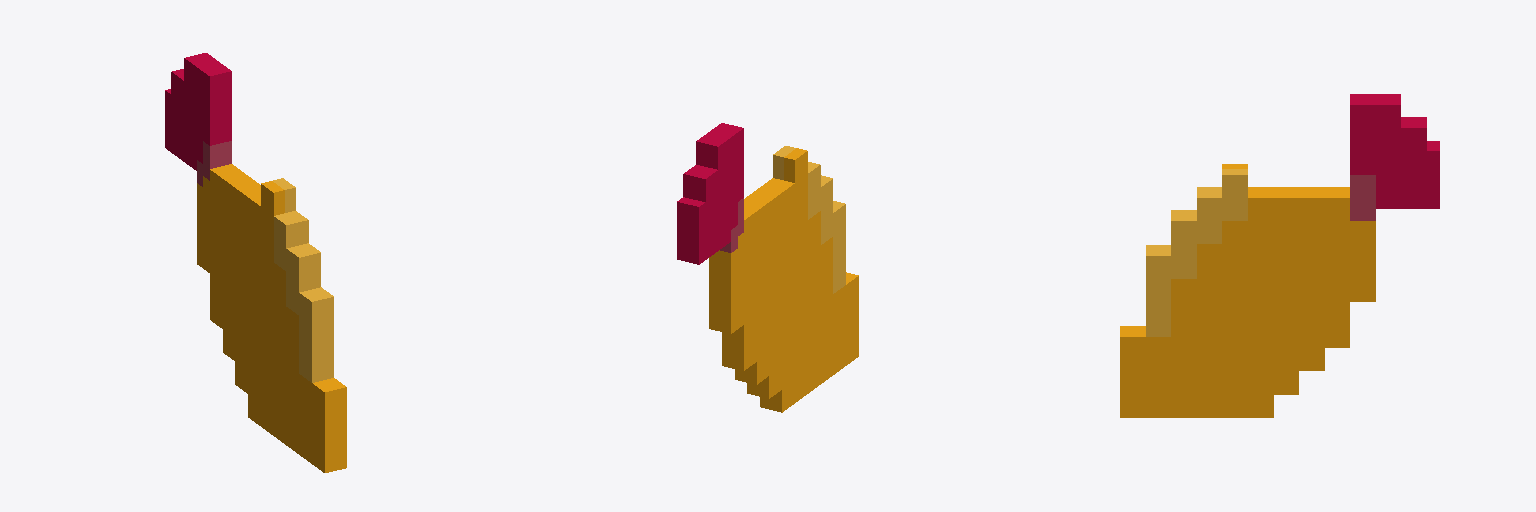
The picture shows the model from 3 angles: view 1: azimuth 30°, elevation 25°; view 2: azimuth 150°, elevation 25°; view 3: azimuth 270°, elevation 25°; orthographic projection.
Parts seen in each view (by area): view 1: object 1; view 2: object 1; view 3: object 1.
Boxes of the visible parts, x1,y1,x2,y2 form: object 1: [165, 53, 346, 472]; object 1: [677, 123, 858, 412]; object 1: [1120, 94, 1439, 417].
Bounding box in the file's own units: 0.2 × 2.7 × 2.5.
Materials: 1 (1 with a texture image).